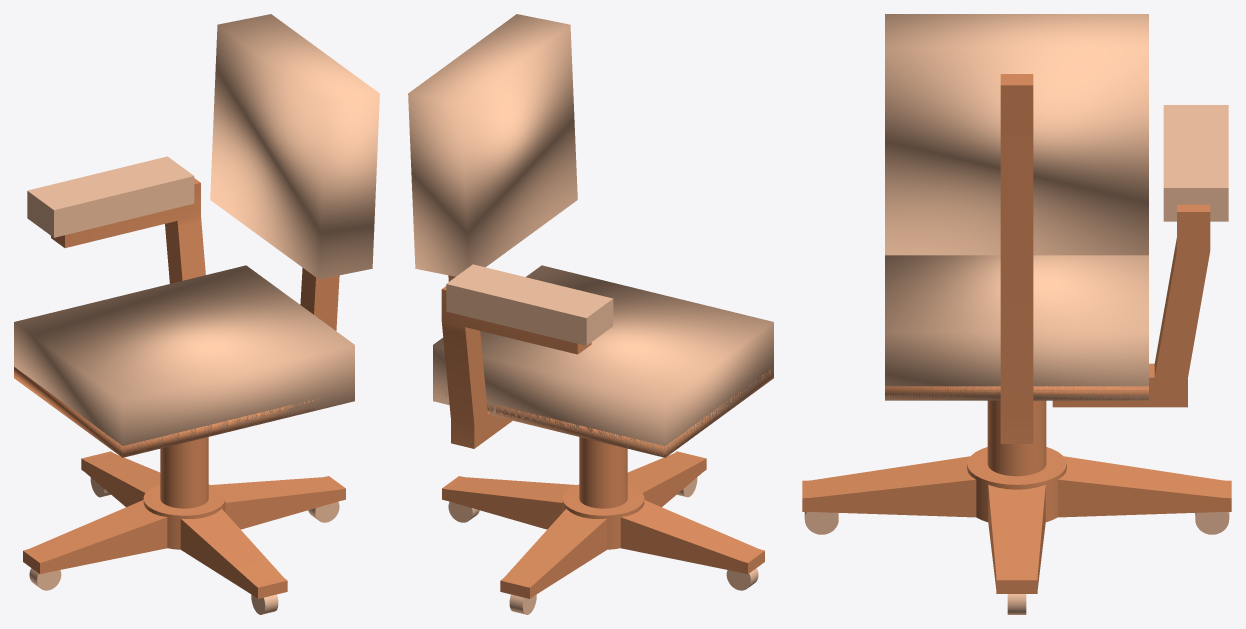
File: chair.glb
The picture shows the model from 3 angles, left to right: view 1: azimuth 30°, elevation 25°; view 2: azimuth 150°, elevation 25°; view 3: azimuth 270°, elevation 25°; orthographic projection. The views are drawn at different scales.
Visible parts, largest first — view 1: Plane.001, Plane.002, Cube, Plane.003, Cylinder, Cube.002, Plane.004, Cube.001, Cylinder.001; view 2: Plane.002, Plane.001, Cube, Plane.003, Cube.002, Cylinder, Plane.004, Cylinder.001; view 3: Plane.002, Plane.001, Cube, Cube.001, Cube.002, Plane.003, Cylinder, Plane.004, Cylinder.001.
Part boxes in pixels (box(x1,y1,x2,y2)): Plane.001: box(14, 265, 354, 457); Plane.002: box(210, 14, 379, 279); Cube: box(23, 451, 345, 598); Plane.003: box(27, 156, 194, 237); Cylinder: box(143, 437, 225, 549); Cube.002: box(51, 178, 205, 283); Plane.004: box(14, 367, 320, 457); Cube.001: box(300, 268, 339, 330); Cylinder.001: box(29, 477, 339, 614); Plane.002: box(408, 14, 577, 276); Plane.001: box(433, 265, 773, 457); Cube: box(442, 451, 764, 598); Plane.003: box(446, 264, 613, 345); Cube.002: box(441, 286, 591, 448); Cylinder: box(562, 437, 644, 549); Plane.004: box(433, 367, 773, 457); Cylinder.001: box(448, 477, 758, 614); Plane.002: box(885, 14, 1148, 255); Plane.001: box(885, 255, 1148, 400); Cube: box(802, 456, 1231, 593); Cube.001: box(1000, 74, 1033, 443); Cube.002: box(1052, 204, 1210, 407); Plane.003: box(1163, 105, 1228, 221); Cylinder: box(967, 400, 1066, 522); Plane.004: box(885, 386, 1148, 400); Cylinder.001: box(804, 512, 1229, 614).
Bounding box in the file's own units: 1.53 × 2.19 × 1.5.
